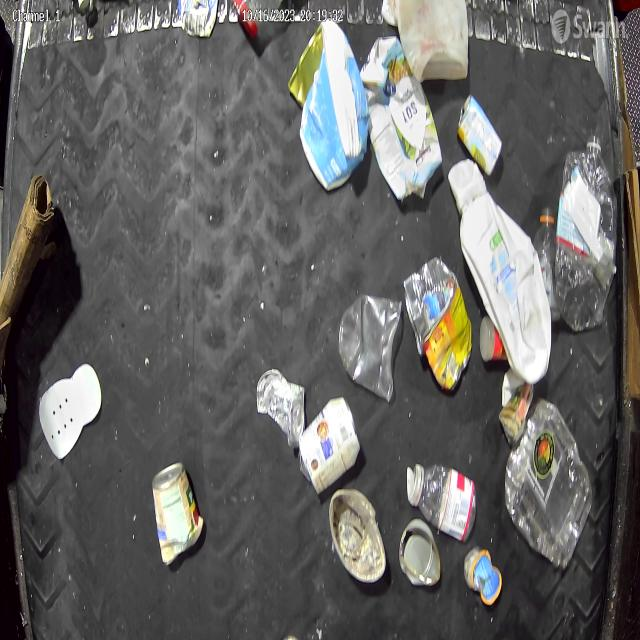can: (297, 388, 358, 494), (147, 458, 204, 566), (402, 251, 452, 355), (254, 363, 309, 444), (456, 91, 502, 177), (398, 517, 442, 595)
milk_jug: (458, 192, 554, 388)
plastic_bottle: (555, 132, 620, 348), (406, 464, 476, 550), (527, 186, 563, 309)
